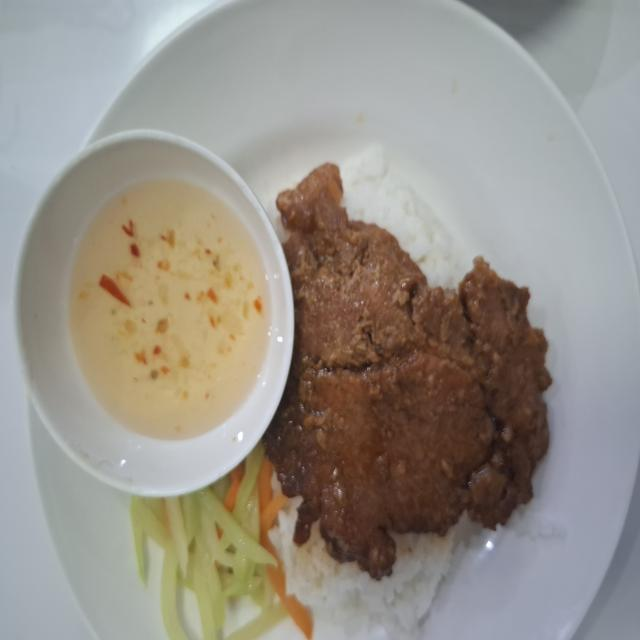com: (278, 499, 482, 640), (340, 144, 466, 287)
nuoc mam: (70, 184, 268, 438)
rau: (131, 443, 312, 640)
suon mieng: (265, 164, 552, 579)
